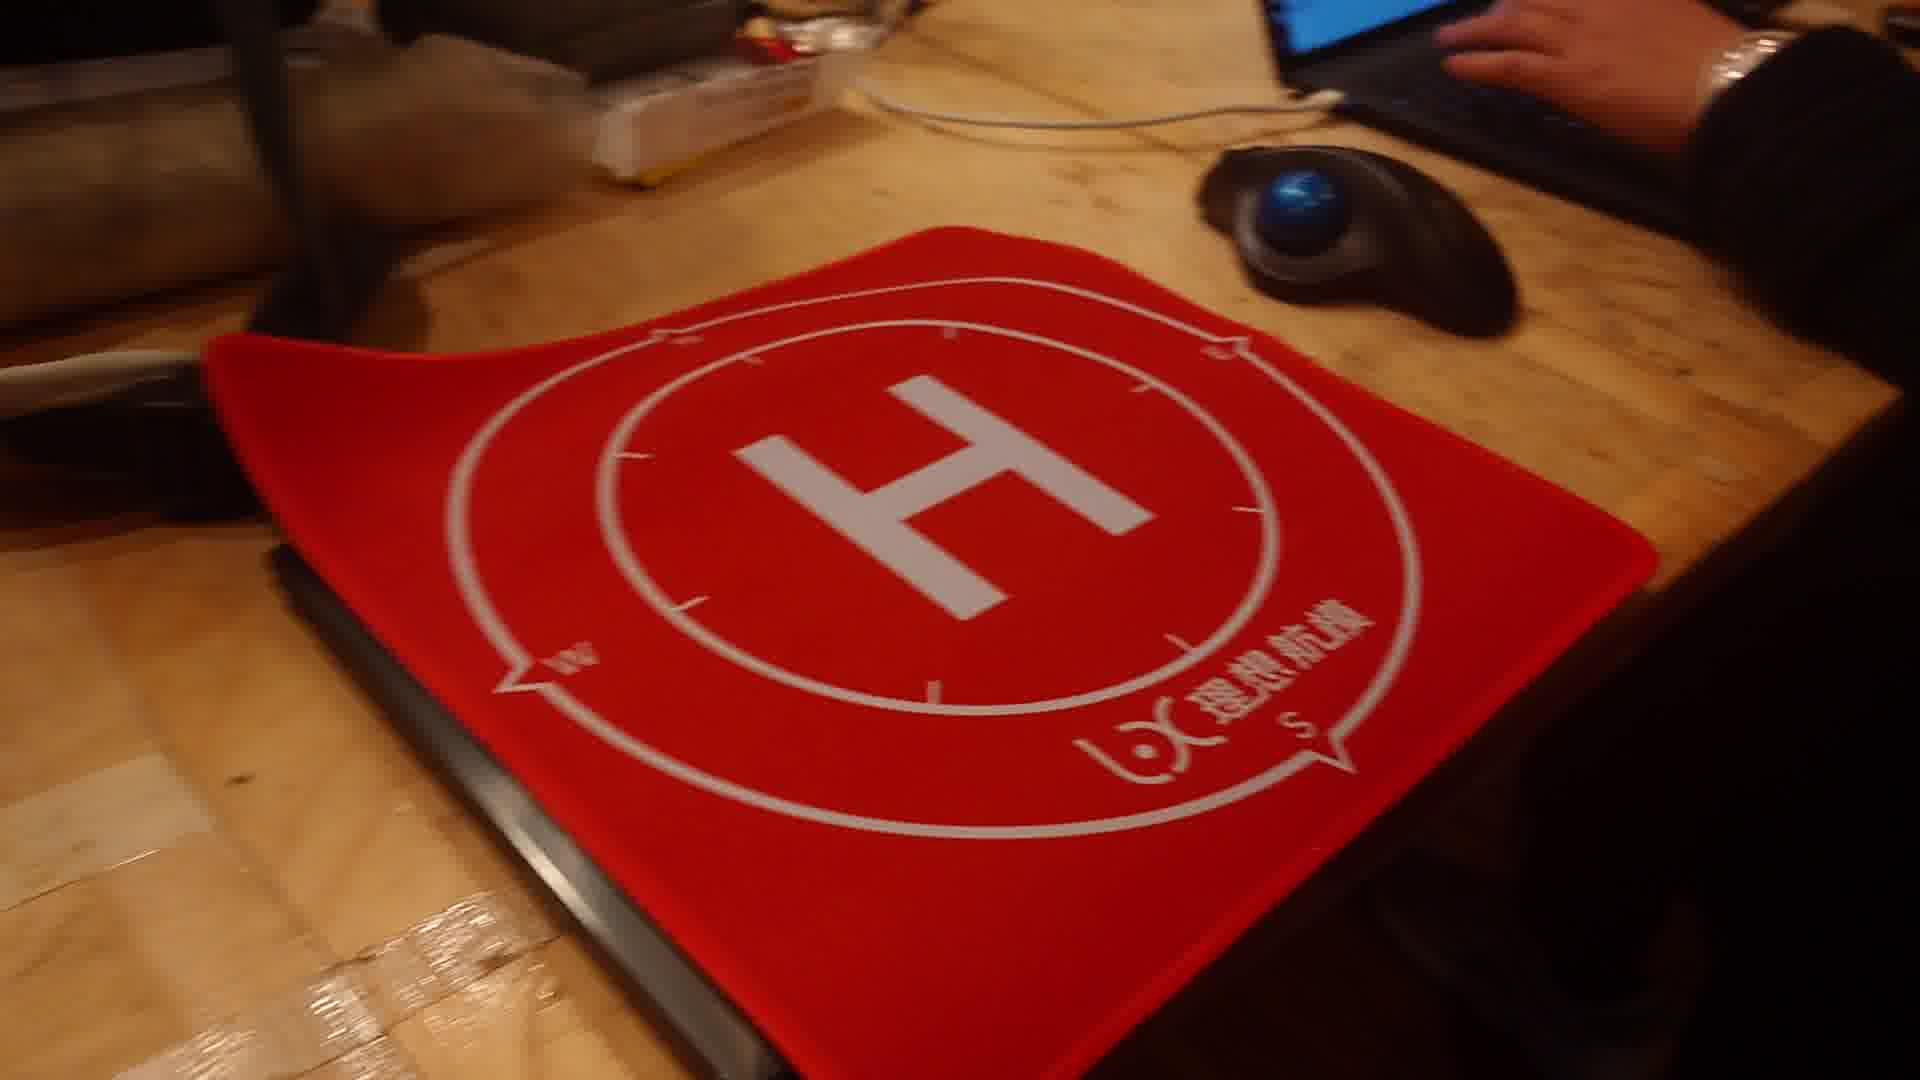H: (729, 373, 1159, 622)
